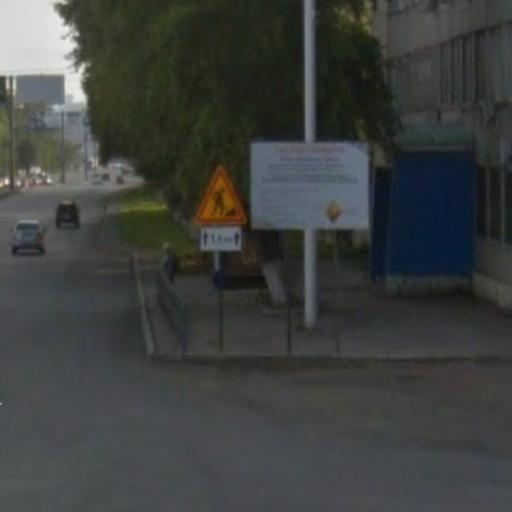traffic_sign: (190, 162, 254, 233)
